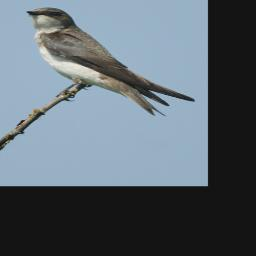Swallow: (25, 7, 196, 117)
